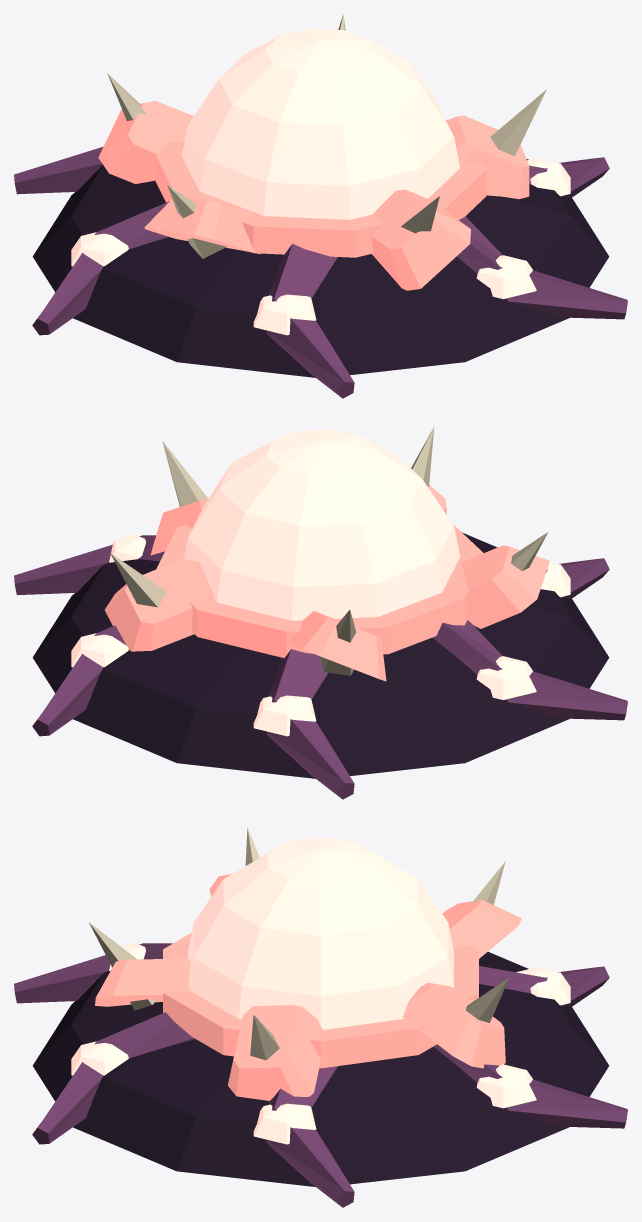
File: brood_growth_node.glb
3 views of the same model, one above another, from view 1: azimuth 30°, elevation 25°; view 2: azimuth 150°, elevation 25°; view 3: azimuth 270°, elevation 25° (orthographic).
Parts seen in each view (by area): view 1: Surf_dark, Surf_GLOW, Surf_TEAM, Surf_warm, Surf_bone; view 2: Surf_dark, Surf_GLOW, Surf_TEAM, Surf_warm, Surf_bone; view 3: Surf_dark, Surf_GLOW, Surf_TEAM, Surf_warm, Surf_bone.
Part boxes in pixels (<box>): Surf_dark: <box>32,159,609,377</box>; Surf_GLOW: <box>71,28,570,335</box>; Surf_TEAM: <box>98,101,529,290</box>; Surf_warm: <box>14,147,627,398</box>; Surf_bone: <box>107,14,546,258</box>; Surf_dark: <box>32,532,609,778</box>; Surf_GLOW: <box>71,429,570,736</box>; Surf_TEAM: <box>105,484,549,681</box>; Surf_warm: <box>14,535,627,799</box>; Surf_bone: <box>110,427,547,675</box>; Surf_dark: <box>32,952,609,1186</box>; Surf_GLOW: <box>71,837,570,1144</box>; Surf_TEAM: <box>95,874,521,1100</box>; Surf_warm: <box>14,943,627,1207</box>; Surf_bone: <box>89,828,508,1060</box>.
Size of the model in its own units: 3.22 by 1.12 by 2.88.
